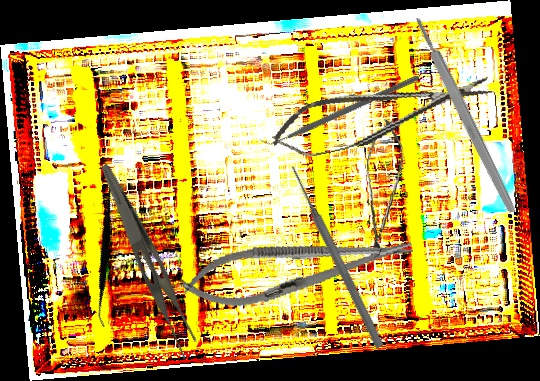Chopper: (257, 21, 420, 195)
Dressing Forceps: (80, 162, 210, 361)
Micro Scissor: (266, 65, 498, 164), (358, 115, 407, 262)
Needle Holder: (178, 219, 418, 318)
Pusher: (286, 163, 387, 350)
Scalpel Handle: (412, 15, 518, 215)
Spatula Surgical: (34, 169, 173, 329)
